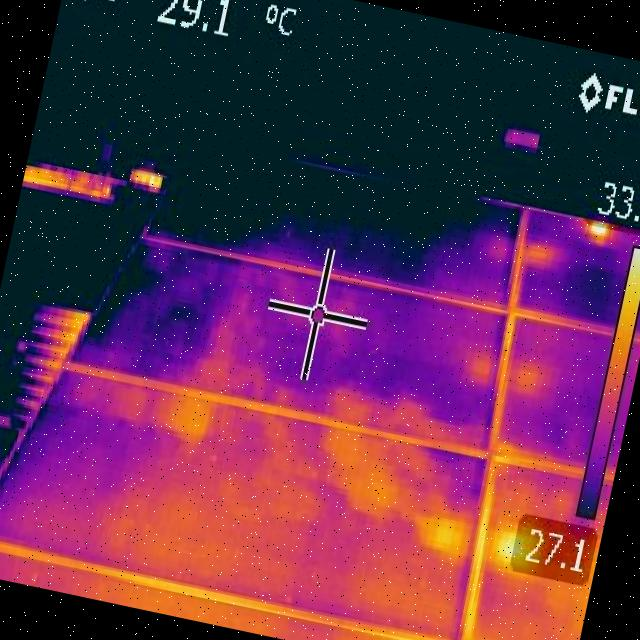Hotspot: (411, 496, 475, 570), (484, 512, 532, 584), (575, 215, 618, 253)
